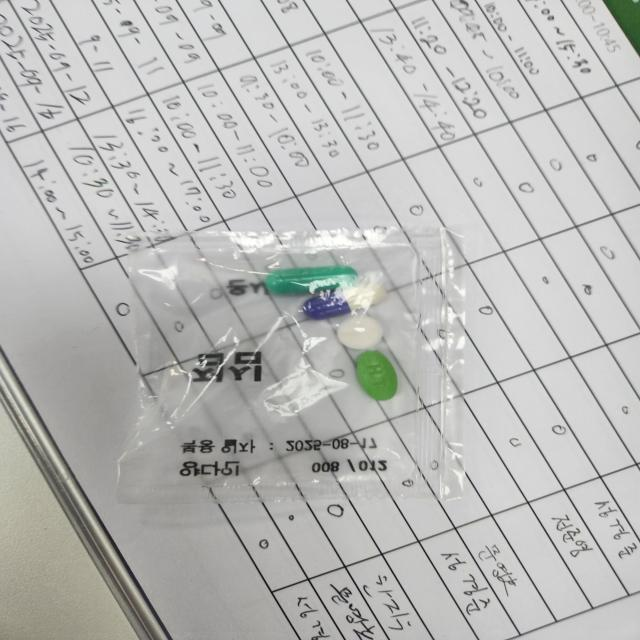러키펜정: (335, 316, 383, 354)
씨엠지세파클러캡슐: (301, 284, 387, 322)
에르도캡슐: (264, 267, 359, 299)
휴티렌정: (356, 350, 401, 404)
